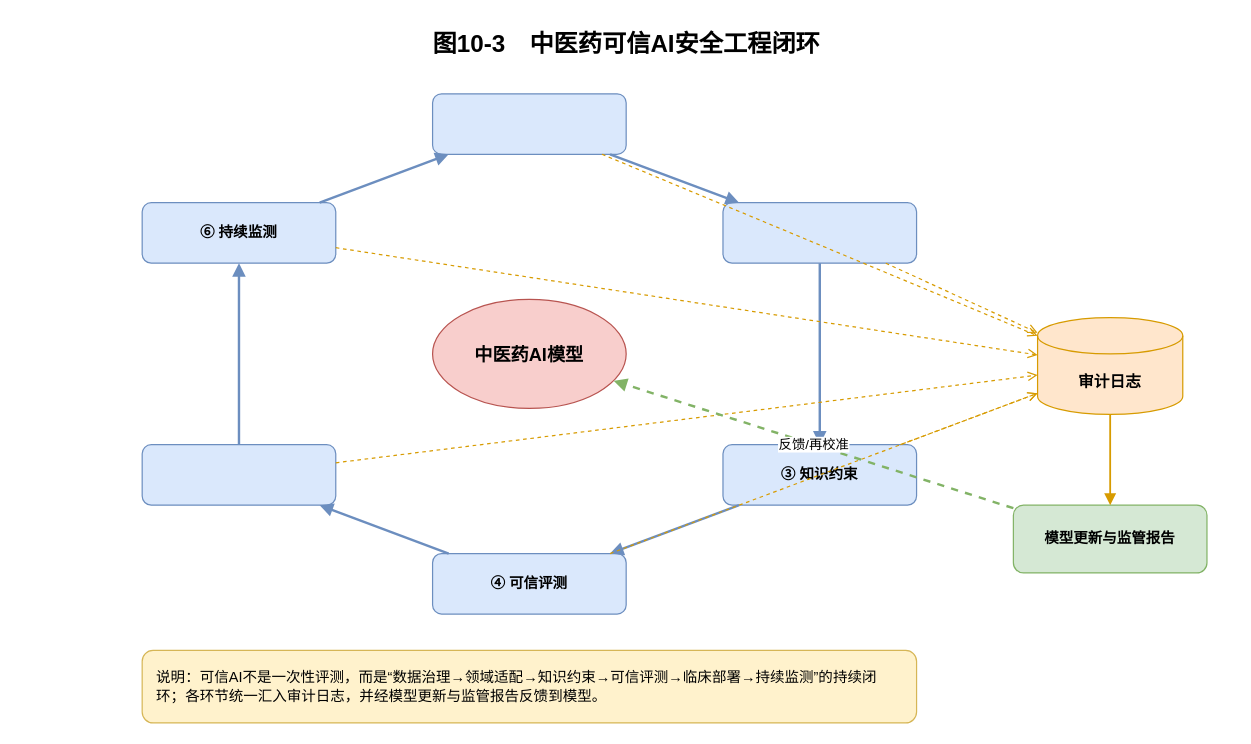
Image size: 1251x744. Some labels were removed from this diagram. Each missing label, with the centre of its shape:
① 数据治理: pixel 528 123
② 领域适配: pixel 819 232
⑤ 临床部署: pixel 238 474
